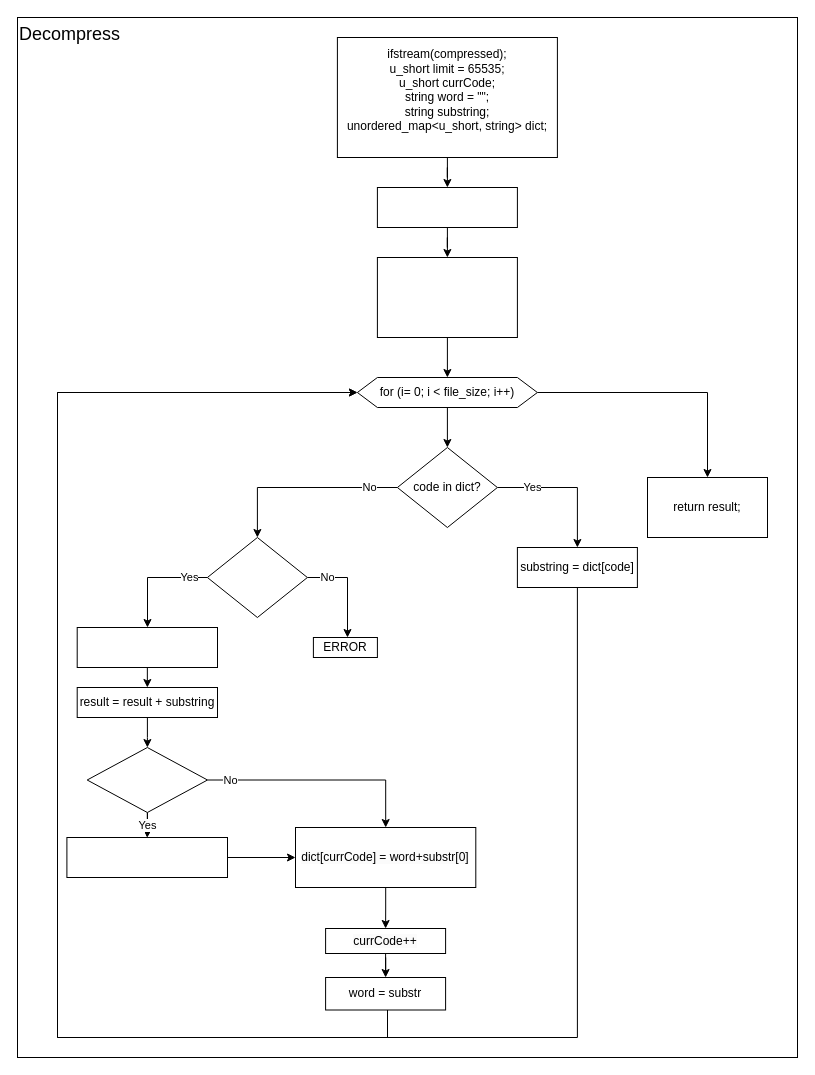
Image size: 815x1075. Some labels were removed from this diagram. The shapes that lost their labels are listed below. From the top down, each one's box as (x1, y1, x2, y2) in pixels, then its label:
(376, 186, 517, 228): resetDict(dict, currCode)
(376, 256, 517, 338): u_short code; ifstream.read(code); word = string(1, code); string result{word}
(206, 536, 307, 618): code==currCode
(76, 626, 218, 668): substr = word + word[0]
(86, 746, 208, 812): currCode == limit
(66, 836, 228, 878): resetDict(dict, cucurrCode)
